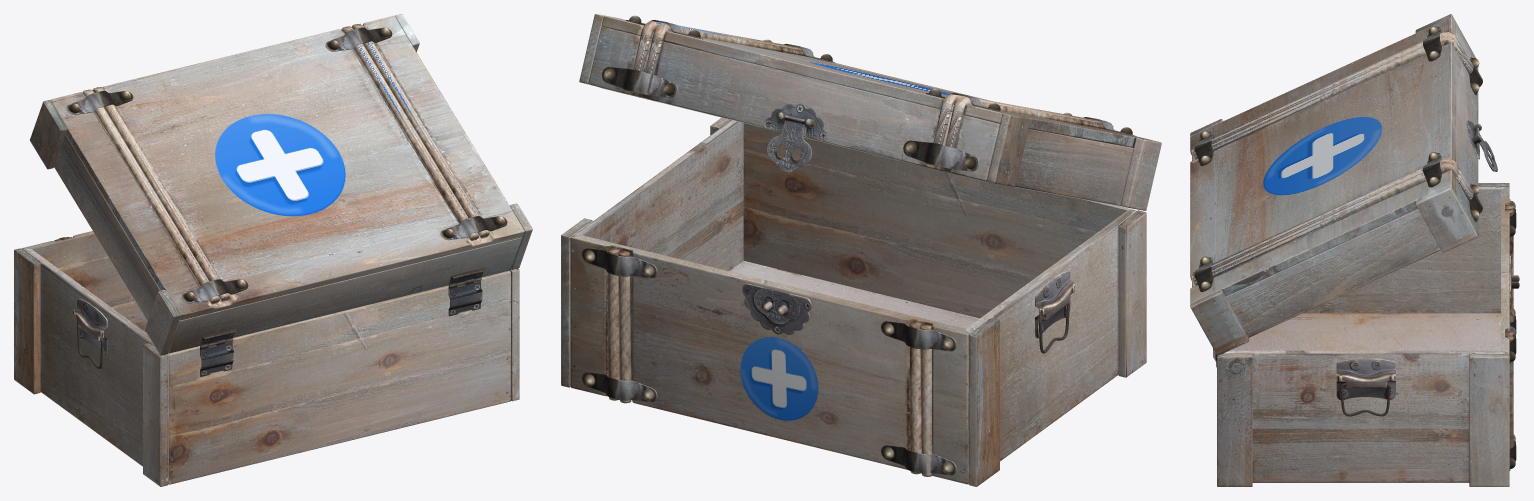
The model's file is health.glb.
The picture shows the model from 3 angles, left to right: view 1: azimuth 30°, elevation 25°; view 2: azimuth 150°, elevation 25°; view 3: azimuth 270°, elevation 25°; orthographic projection. The views are drawn at different scales.
Parts seen in each view (by area): view 1: Box; view 2: Box; view 3: Box.
Part boxes in pixels (x1,y1,x2,y2): Box: [14, 14, 532, 486]; Box: [561, 14, 1161, 486]; Box: [1190, 14, 1519, 486].
Bounding box in the file's own units: 21.23 × 17.03 × 16.9.
Materials: 3 (2 with a texture image).
